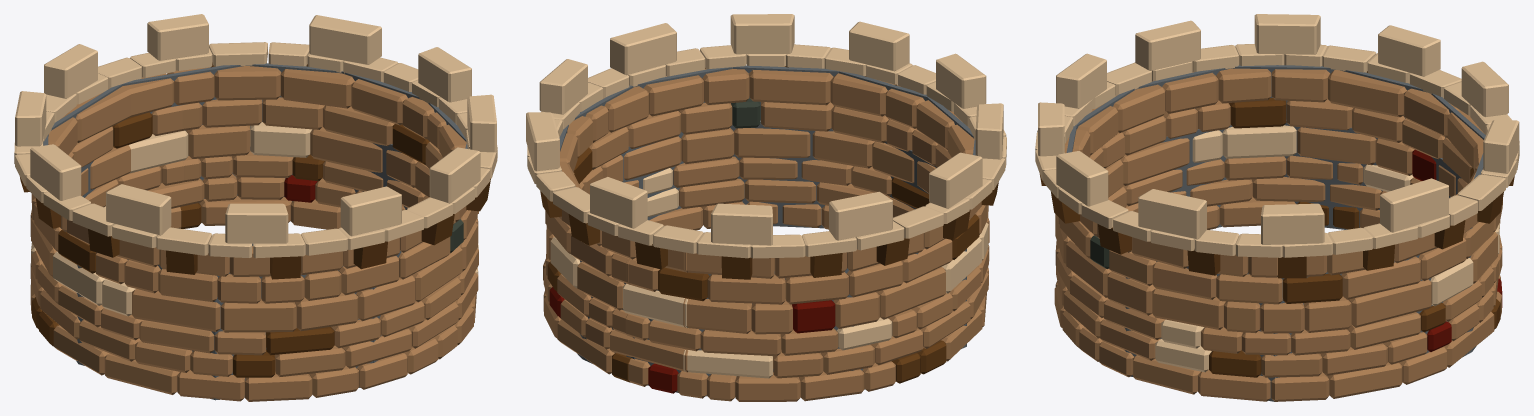
The model's file is top-section-with-crenellation_.glb.
3 renders of one model, left to right at view 1: azimuth 30°, elevation 25°; view 2: azimuth 150°, elevation 25°; view 3: azimuth 270°, elevation 25°, orthographic.
Visible parts, largest first — view 1: main-wall.112, top-section-2.002, top-section-1.001, grout-wall.004, strut-1.001, strut-11.001, strut-8.001, strut-15.001, strut-12.001; view 2: main-wall.112, top-section-2.002, top-section-1.001, grout-wall.004, strut-6.001, strut-16.001, strut-2.001, strut-10.001, strut-9.001, strut-4.001; view 3: main-wall.112, top-section-2.002, top-section-1.001, grout-wall.004, strut-13.001, strut-5.001, strut-14.001, strut-3.001, strut-7.001, strut-12.001, strut-9.001.
Boxes of the visible parts, x1=… form: main-wall.112: x1=30, y1=66, x2=478, y2=401; top-section-2.002: x1=15, y1=14, x2=496, y2=243; top-section-1.001: x1=14, y1=42, x2=497, y2=258; grout-wall.004: x1=43, y1=63, x2=467, y2=400; strut-1.001: x1=353, y1=241, x2=387, y2=269; strut-11.001: x1=270, y1=256, x2=300, y2=279; strut-8.001: x1=166, y1=250, x2=197, y2=274; strut-15.001: x1=88, y1=229, x2=119, y2=257; strut-12.001: x1=421, y1=214, x2=454, y2=245; main-wall.112: x1=543, y1=69, x2=989, y2=401; top-section-2.002: x1=526, y1=14, x2=1003, y2=245; top-section-1.001: x1=527, y1=44, x2=1006, y2=258; grout-wall.004: x1=559, y1=65, x2=975, y2=396; strut-6.001: x1=810, y1=253, x2=842, y2=277; strut-16.001: x1=721, y1=256, x2=752, y2=279; strut-2.001: x1=635, y1=242, x2=667, y2=269; strut-10.001: x1=876, y1=238, x2=909, y2=265; strut-9.001: x1=568, y1=214, x2=599, y2=245; strut-4.001: x1=943, y1=209, x2=970, y2=240; main-wall.112: x1=1054, y1=68, x2=1502, y2=401; top-section-2.002: x1=1038, y1=14, x2=1519, y2=244; top-section-1.001: x1=1035, y1=44, x2=1519, y2=257; grout-wall.004: x1=1066, y1=65, x2=1485, y2=401; strut-13.001: x1=1187, y1=249, x2=1220, y2=275; strut-5.001: x1=1098, y1=224, x2=1131, y2=254; strut-14.001: x1=1363, y1=244, x2=1394, y2=270; strut-3.001: x1=1278, y1=256, x2=1306, y2=278; strut-7.001: x1=1434, y1=220, x2=1465, y2=249; strut-12.001: x1=1051, y1=192, x2=1079, y2=223; strut-9.001: x1=1477, y1=192, x2=1503, y2=223.
Size of the model in its own units: 2.15 by 0.9634 by 2.16.
